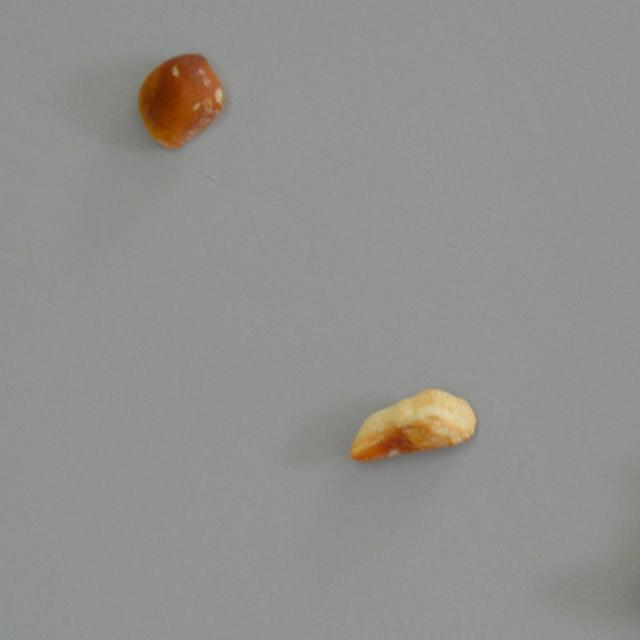dañado: (344, 385, 478, 469), (134, 50, 229, 150)
